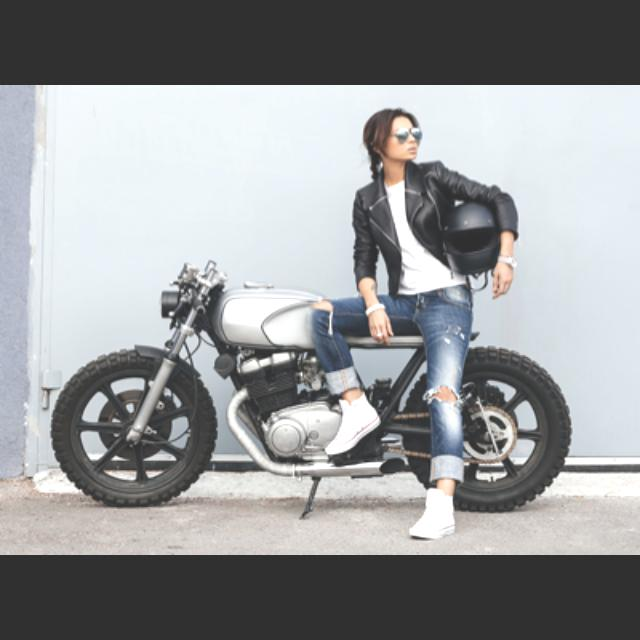Without Helmet: (352, 96, 443, 166)
